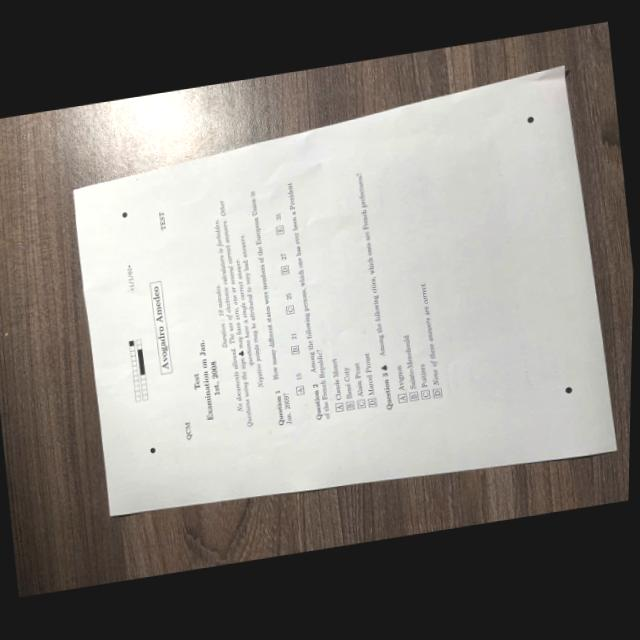Markers: (564, 385, 572, 393), (149, 445, 156, 453), (526, 115, 534, 122), (121, 211, 127, 217)
